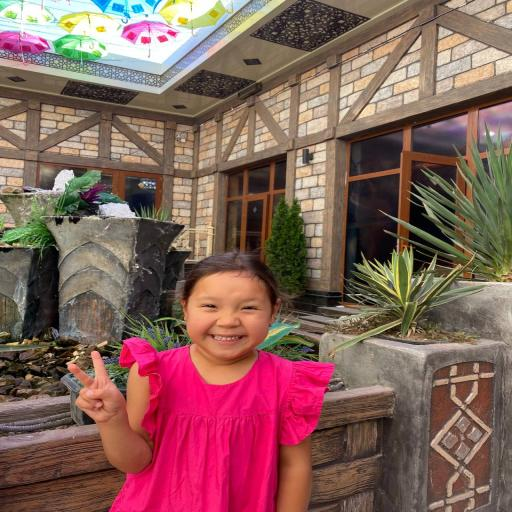bus_stop: (70, 251, 333, 511)
elevator: (340, 94, 510, 307), (224, 156, 284, 268)
